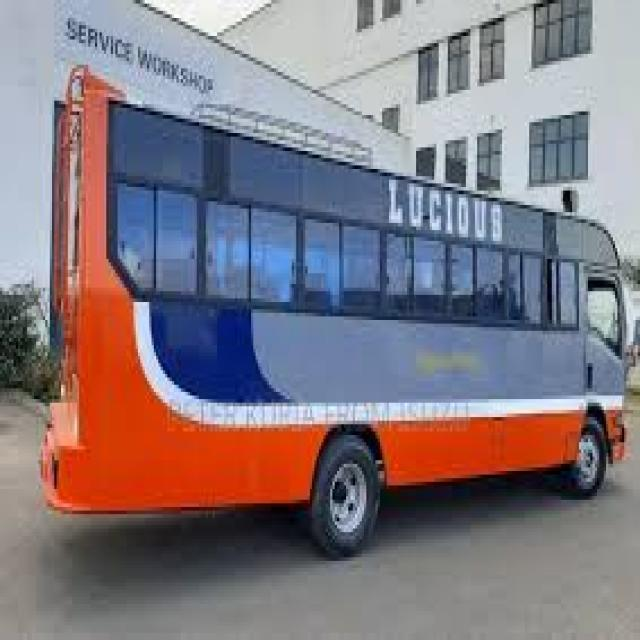bus: (39, 7, 640, 575)
